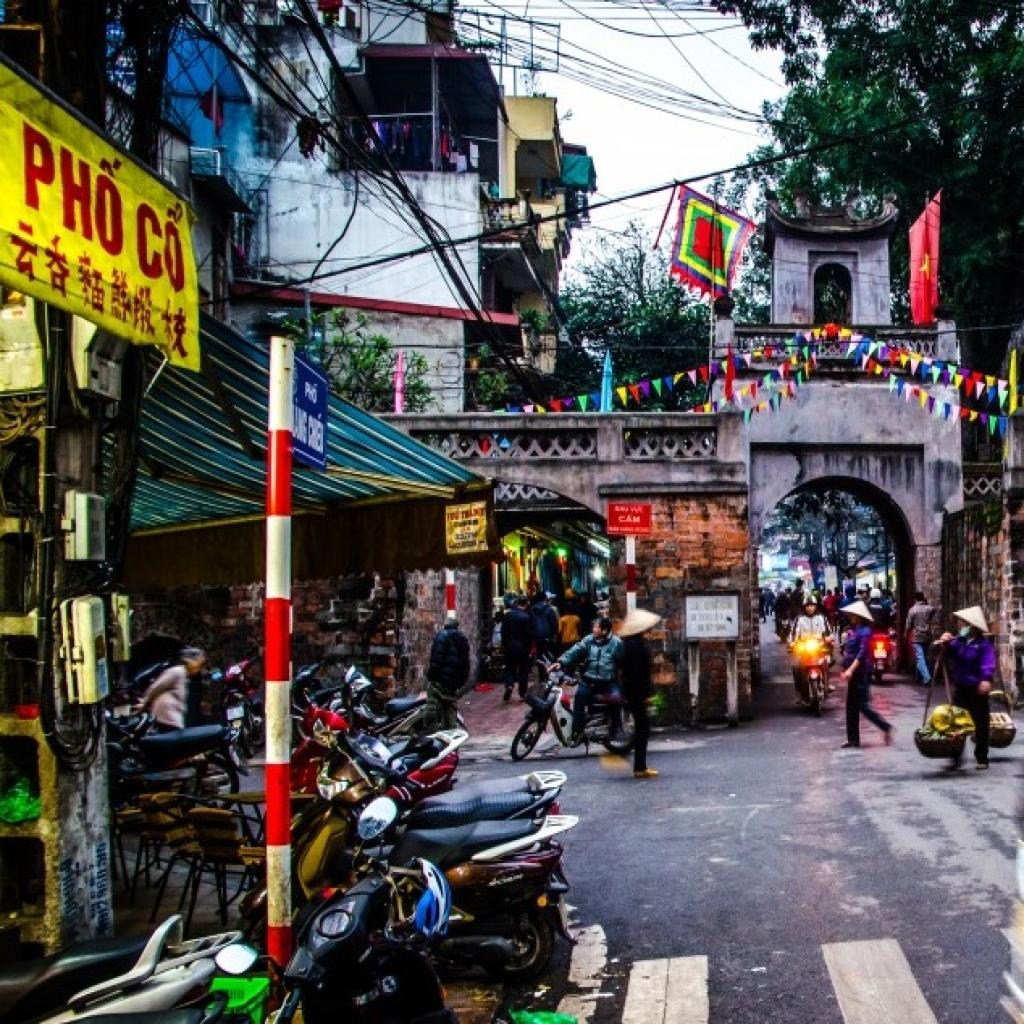text: (19, 108, 136, 260), (132, 184, 192, 297), (304, 376, 323, 406), (617, 515, 643, 525)
